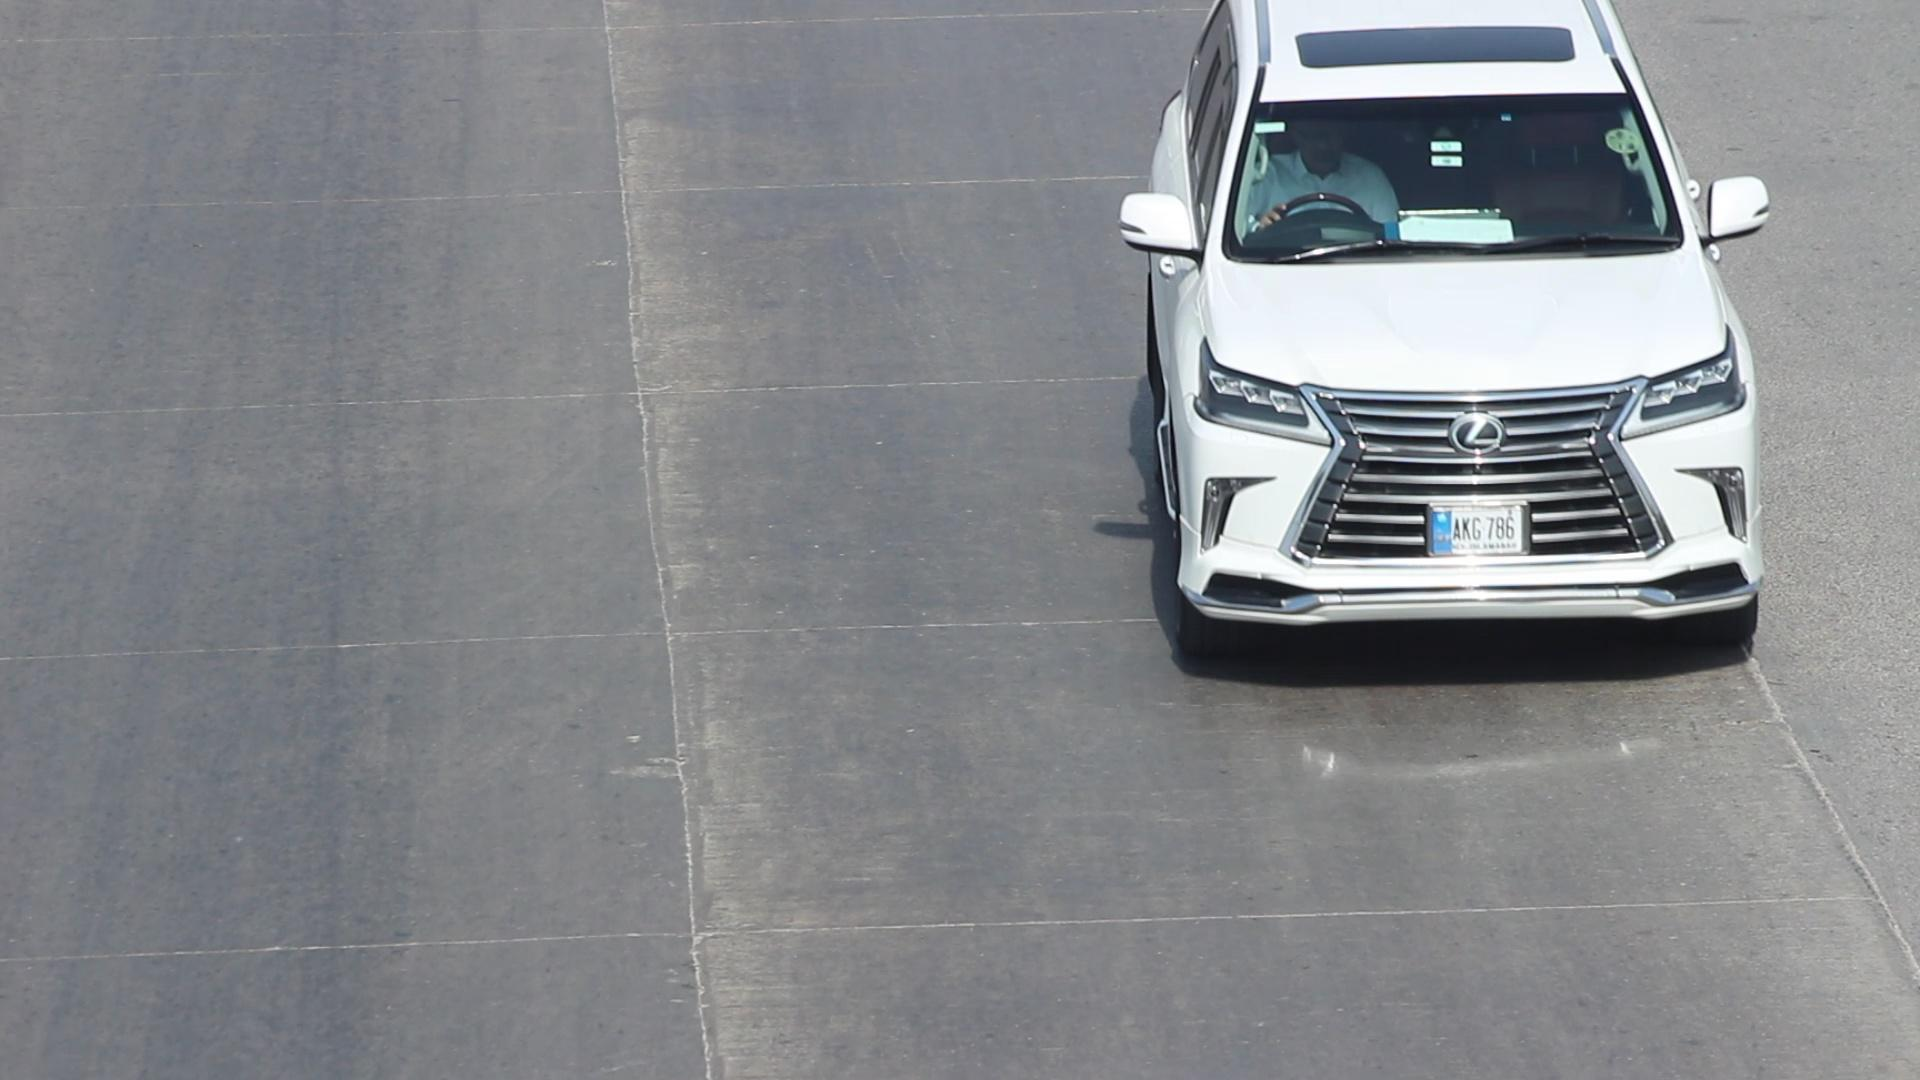windshield: (1204, 57, 1700, 277)
